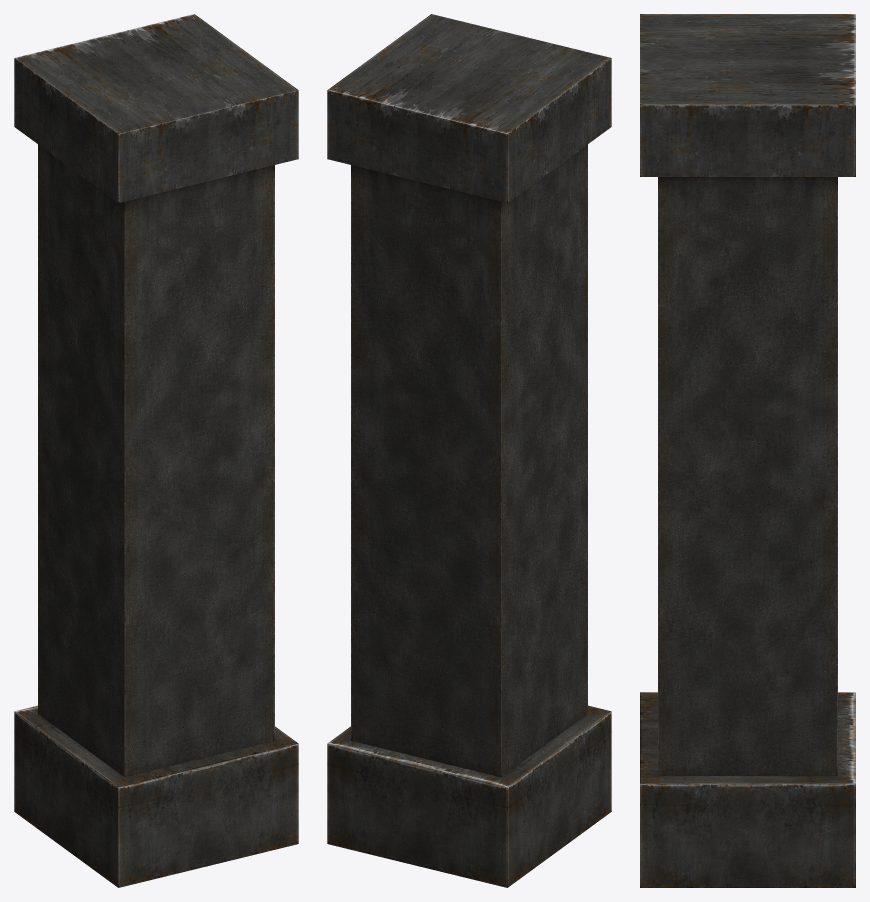
The model's file is pillar_01.glb.
The picture shows the model from 3 angles, left to right: view 1: azimuth 30°, elevation 25°; view 2: azimuth 150°, elevation 25°; view 3: azimuth 270°, elevation 25°; orthographic projection. The views are drawn at different scales.
Visible parts, largest first — view 1: Pillar 01 | 1.5 x 6 x 1.5 m; view 2: Pillar 01 | 1.5 x 6 x 1.5 m; view 3: Pillar 01 | 1.5 x 6 x 1.5 m.
Part boxes in pixels (x1,y1,x2,y2): Pillar 01 | 1.5 x 6 x 1.5 m: (14,14,298,887); Pillar 01 | 1.5 x 6 x 1.5 m: (327,14,611,887); Pillar 01 | 1.5 x 6 x 1.5 m: (640,14,855,887).
Bounding box in the file's own units: 1.5 × 6 × 1.5.
2 materials, 2 textured.
